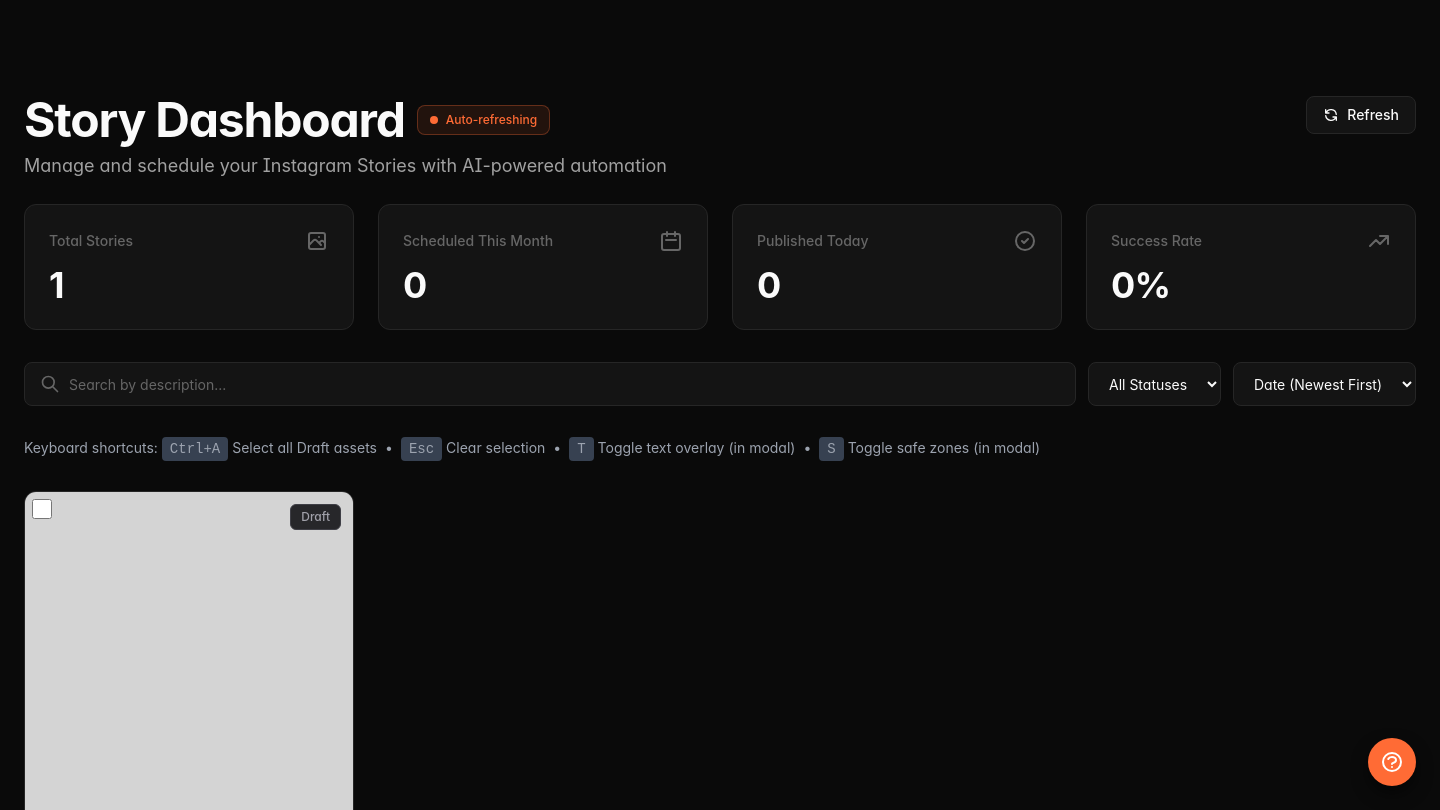
Bulk Approval Integration › should clear selection when filters change
Note: Select asset
Click the checkbox.
click(42, 509)  # box [32,499,52,519]
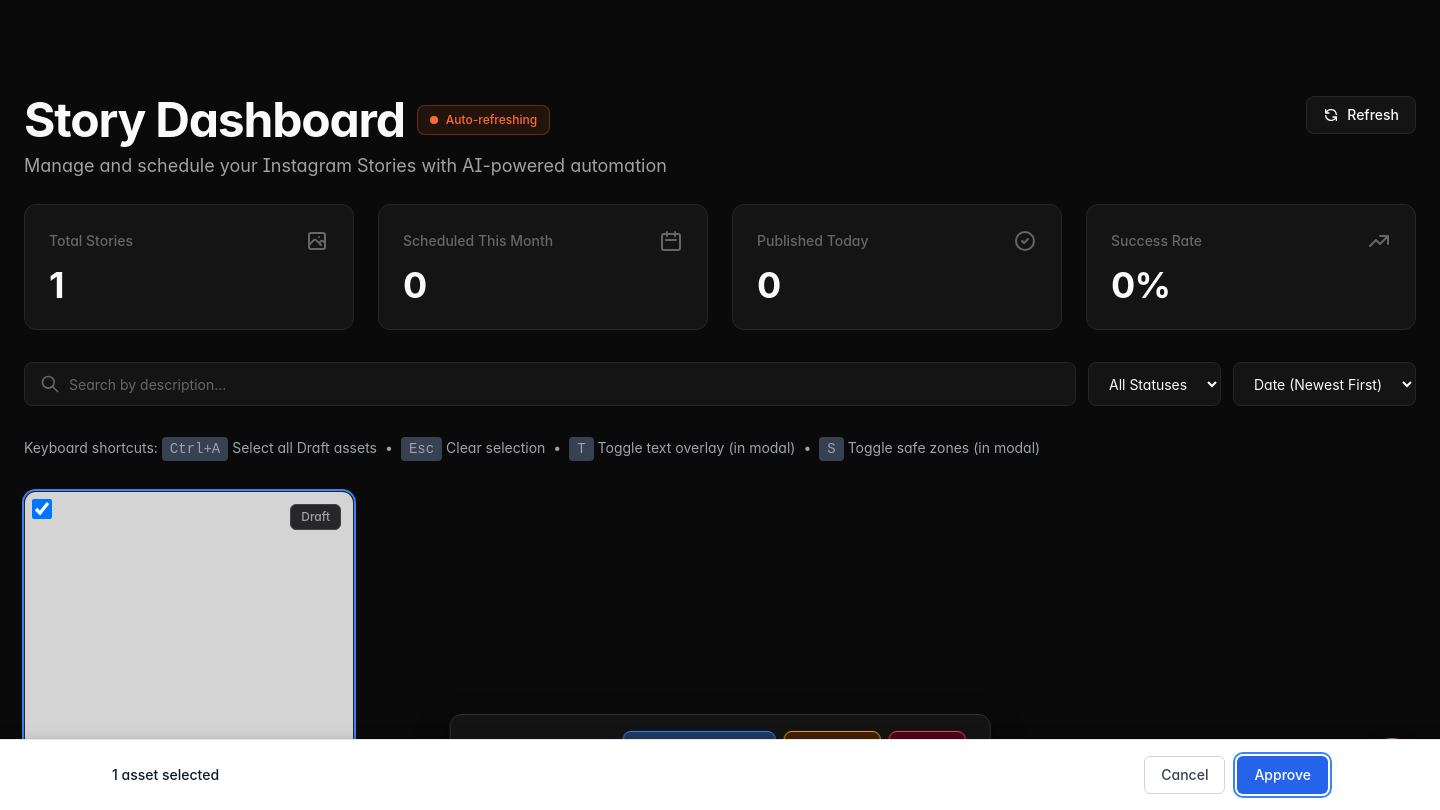
expect the text "1 asset selected" is shown: met, box [112,765,219,785]
Note: Change filter - find the status filter dropdown (first combobox)
Select "Ready" in the 1st dropdown at (1154, 384), box [1088,362,1221,406]
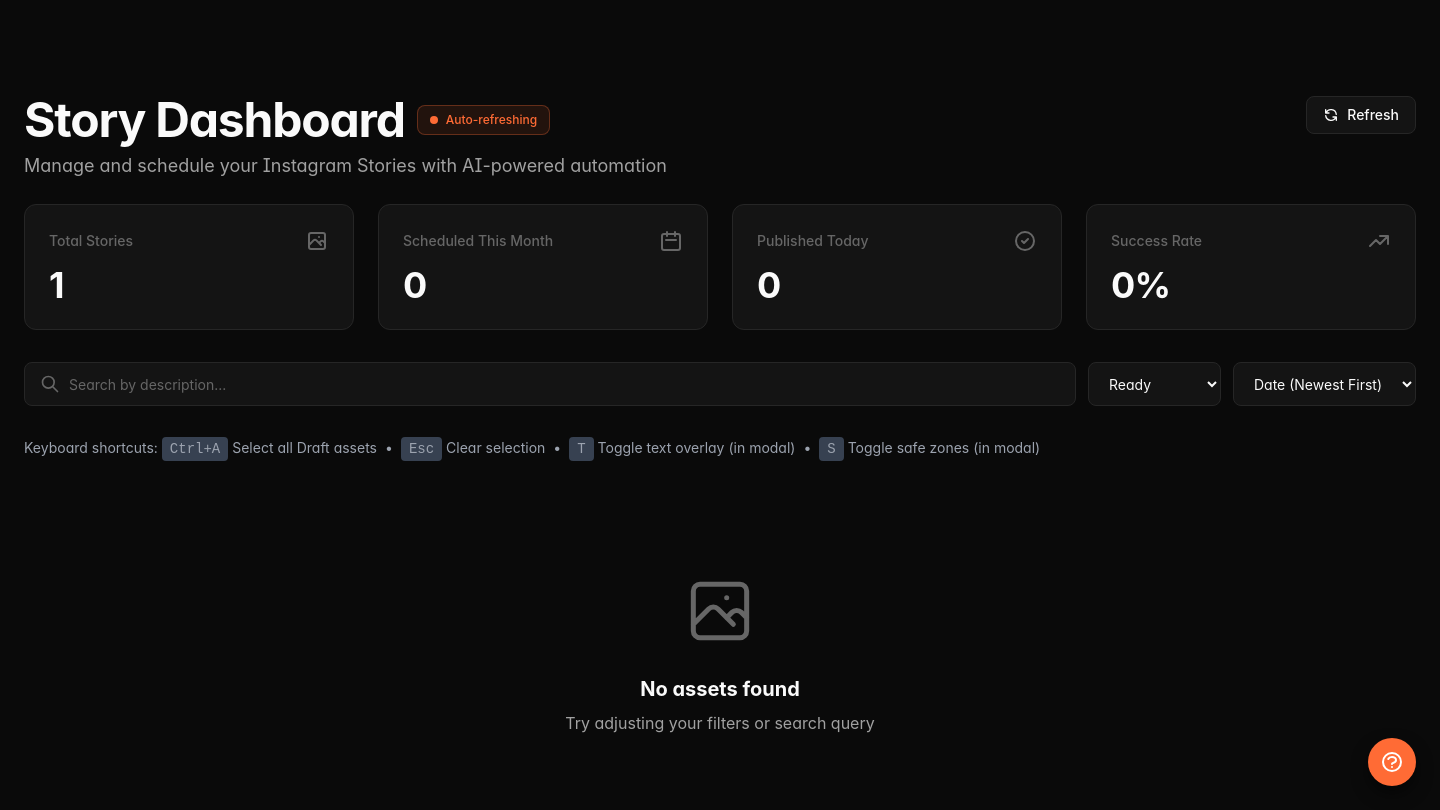
expect the text "1 asset selected" is gone: met
